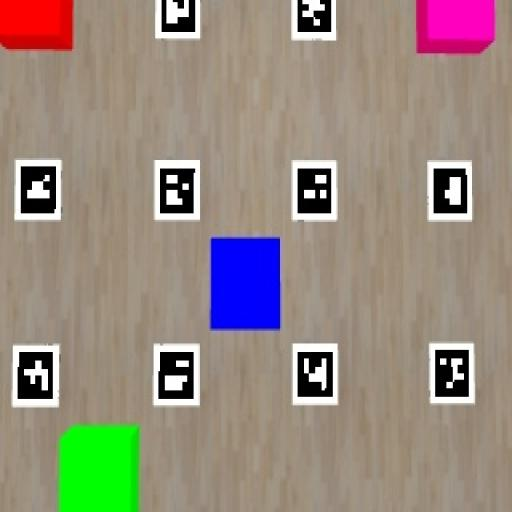car: (58, 425, 139, 511), (210, 237, 281, 330), (416, 0, 495, 55)
fire: (0, 0, 73, 51)
